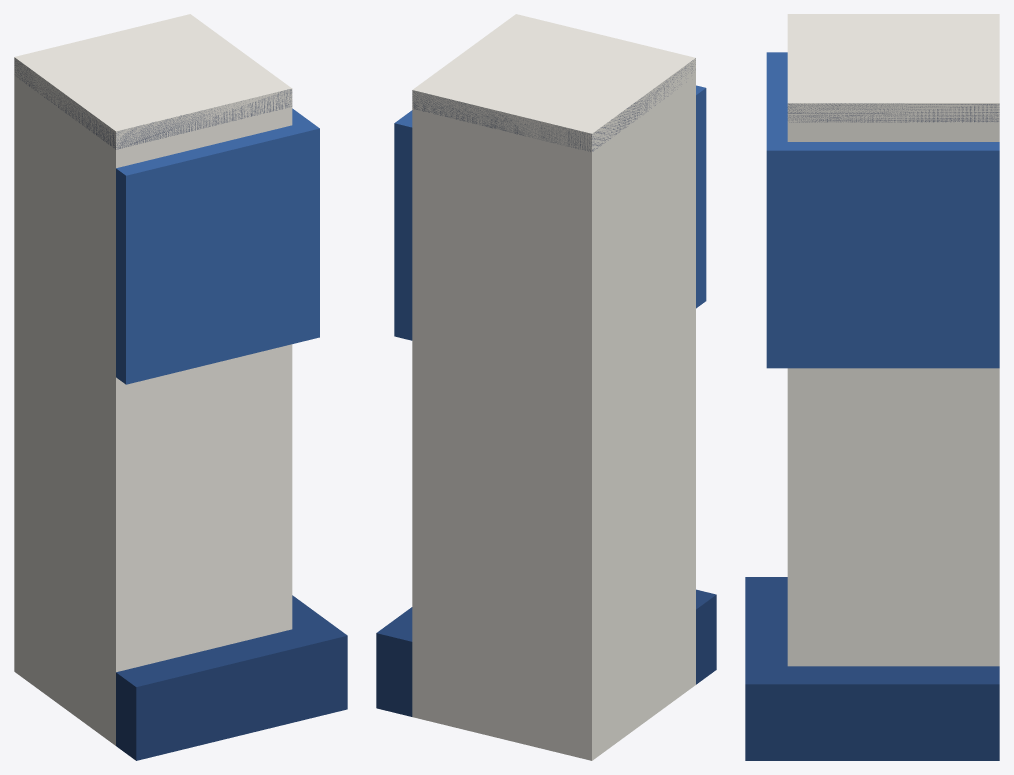
Rendered from wall-corner.glb.
3 renders of one model, left to right at view 1: azimuth 30°, elevation 25°; view 2: azimuth 150°, elevation 25°; view 3: azimuth 270°, elevation 25°, orthographic. The views are drawn at different scales.
Visible parts, largest first — view 1: wall-corner; view 2: wall-corner; view 3: wall-corner.
Boxes of the visible parts, bbox=[...] form: wall-corner: bbox=[14, 14, 347, 760]; wall-corner: bbox=[376, 14, 716, 760]; wall-corner: bbox=[745, 14, 999, 760].
Bounding box in the file's own units: 0.18 × 0.5 × 0.18.
1 material, 1 textured.
